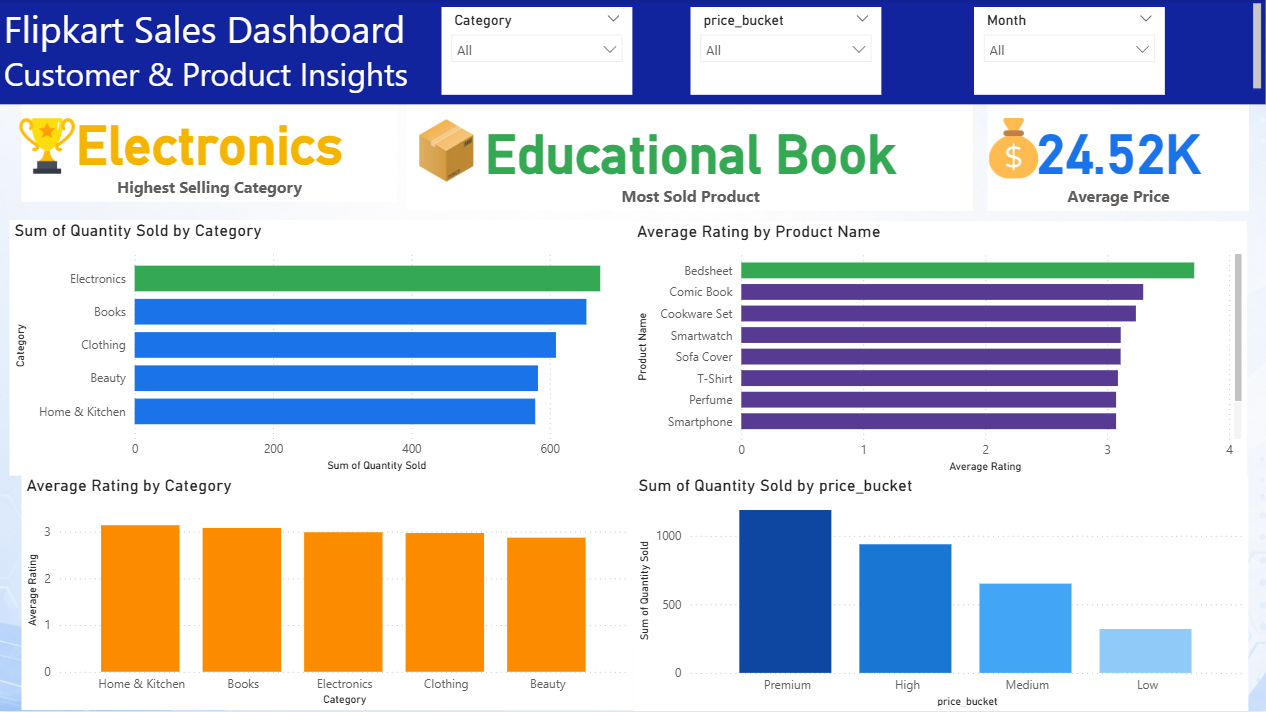

This screenshot's page, from the dashboard's own definition file:
{"tool":"powerbi","page":{"name":"Customer & Product Insights","canvas":[1280,720],"ordinal":1},"visuals":[{"type":"card","fields":{"Values":["flipkart_sales_cleaned.Highest Selling Category"]},"box":[22.1,97.9,379,107.4],"z":0},{"type":"card","fields":{"Values":["flipkart_sales_cleaned.Most Sold Product"]},"box":[412.1,107.4,571.6,107.4],"z":1000},{"type":"card","fields":{"Values":["flipkart_sales_cleaned.Average Price"]},"box":[997.9,107.4,263.7,107.4],"z":2000},{"type":"clusteredBarChart","fields":{"Y":["Sum(flipkart_sales_cleaned.Quantity Sold)"],"Category":["flipkart_sales_cleaned.Category"]},"box":[10.4,223.9,629.9,258.2],"z":3000},{"type":"clusteredColumnChart","fields":{"Category":["flipkart_sales_cleaned.Category"],"Y":["flipkart_sales_cleaned.Average Rating"]},"box":[22.4,482.1,617.9,237.3],"z":4000},{"type":"clusteredBarChart","fields":{"Category":["flipkart_sales_cleaned.Product Name"],"Y":["flipkart_sales_cleaned.Average Rating"]},"box":[639.5,225.8,620.5,257.4],"z":5000},{"type":"columnChart","fields":{"Y":["Sum(flipkart_sales_cleaned.Quantity Sold)"],"Category":["flipkart_sales_cleaned.price_bucket"]},"box":[641.1,481.6,620.5,238.4],"z":6000},{"type":"textbox","box":[0,0,1279,107.4],"z":7000},{"type":"image","box":[11.1,112.1,75.8,74.2],"z":8000},{"type":"image","box":[401.1,113.7,101.1,80.5],"z":9000},{"type":"image","box":[983.7,113.7,80.5,75.8],"z":10000},{"type":"slicer","fields":{"Values":["flipkart_sales_cleaned.Category"]},"box":[446.8,9.5,192.6,88.4],"z":11000},{"type":"slicer","fields":{"Values":["flipkart_sales_cleaned.price_bucket"]},"box":[697.9,9.5,192.6,88.4],"z":12000},{"type":"slicer","fields":{"Values":["flipkart_sales_cleaned.Month"]},"box":[983.7,9.5,192.6,88.4],"z":13000}]}

Visuals, with their boxes in screenshot pixels (x1, y1, x2, y2), scaled from the page's 1280x720 canvas onto the 1266x712 screenshot:
card - flipkart_sales_cleaned.Highest Selling Category: select_region(22, 97, 397, 203)
card - flipkart_sales_cleaned.Most Sold Product: select_region(408, 106, 973, 212)
card - flipkart_sales_cleaned.Average Price: select_region(987, 106, 1248, 212)
clusteredBarChart - Sum(flipkart_sales_cleaned.Quantity Sold) x flipkart_sales_cleaned.Category: select_region(10, 221, 633, 477)
clusteredColumnChart - flipkart_sales_cleaned.Category x flipkart_sales_cleaned.Average Rating: select_region(22, 477, 633, 711)
clusteredBarChart - flipkart_sales_cleaned.Product Name x flipkart_sales_cleaned.Average Rating: select_region(633, 223, 1246, 478)
columnChart - Sum(flipkart_sales_cleaned.Quantity Sold) x flipkart_sales_cleaned.price_bucket: select_region(634, 476, 1248, 711)
textbox: select_region(0, 0, 1265, 106)
image: select_region(11, 111, 86, 184)
image: select_region(397, 112, 497, 192)
image: select_region(973, 112, 1053, 187)
slicer - flipkart_sales_cleaned.Category: select_region(442, 9, 632, 97)
slicer - flipkart_sales_cleaned.price_bucket: select_region(690, 9, 881, 97)
slicer - flipkart_sales_cleaned.Month: select_region(973, 9, 1163, 97)
